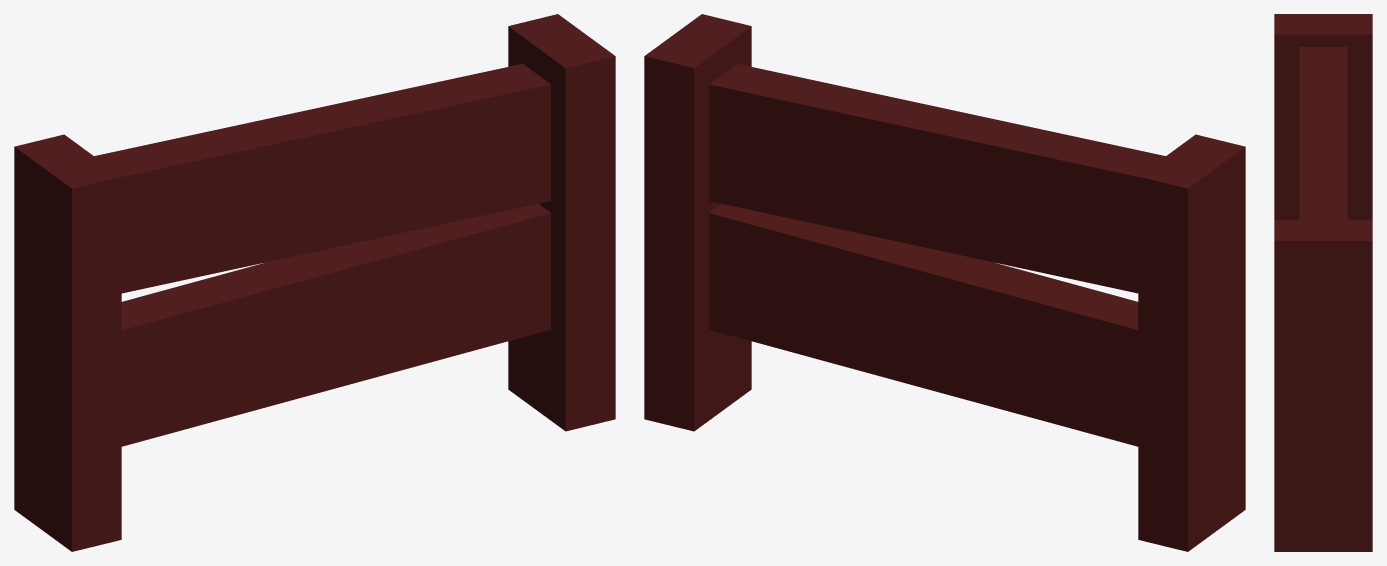
The model's file is AnimalFence.fbx.
The picture shows the model from 3 angles, left to right: view 1: azimuth 30°, elevation 25°; view 2: azimuth 150°, elevation 25°; view 3: azimuth 270°, elevation 25°; orthographic projection. The views are drawn at different scales.
Visible parts, largest first — view 1: Fence_Type1_01__1_; view 2: Fence_Type1_01__1_; view 3: Fence_Type1_01__1_.
Boxes of the visible parts, x1=… form: Fence_Type1_01__1_: x1=14, y1=14, x2=615, y2=551; Fence_Type1_01__1_: x1=644, y1=14, x2=1245, y2=551; Fence_Type1_01__1_: x1=1274, y1=14, x2=1372, y2=551.
Size of the model in its own units: 110 by 70.15 by 20.14.
